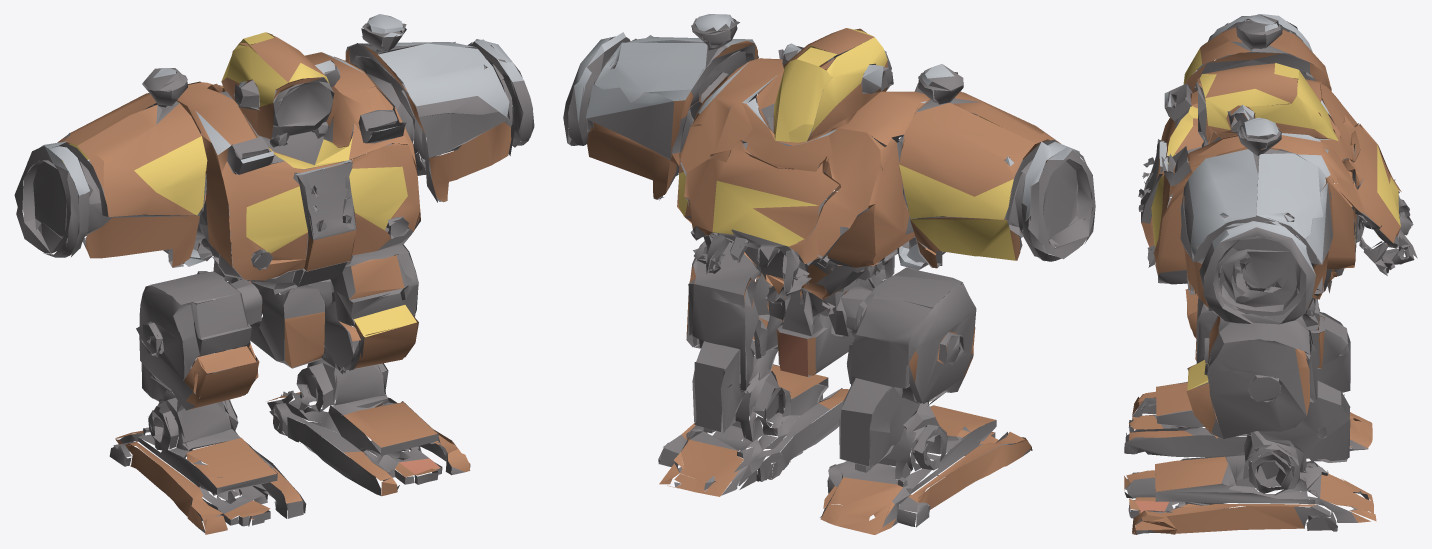
Rendered from ch_brute.glb.
3 renders of one model, left to right at view 1: azimuth 30°, elevation 25°; view 2: azimuth 150°, elevation 25°; view 3: azimuth 270°, elevation 25°, orthographic. The views are drawn at different scales.
Visible parts, largest first — view 1: ch_brute, limb_leg_l, limb_leg_r; view 2: ch_brute, limb_leg_l, limb_leg_r; view 3: ch_brute, limb_leg_r, limb_leg_l.
Part boxes in pixels (left/top/right/bottom): ch_brute: left=14, top=14, right=534, bottom=368; limb_leg_l: left=109, top=300, right=306, bottom=534; limb_leg_r: left=267, top=266, right=470, bottom=496; ch_brute: left=563, top=14, right=1095, bottom=376; limb_leg_l: left=820, top=288, right=1032, bottom=534; limb_leg_r: left=658, top=272, right=848, bottom=496; ch_brute: left=1138, top=14, right=1417, bottom=370; limb_leg_r: left=1124, top=323, right=1376, bottom=534; limb_leg_l: left=1124, top=289, right=1372, bottom=458.
Bounding box in the file's own units: 0.7396 × 0.61 × 0.4012.
